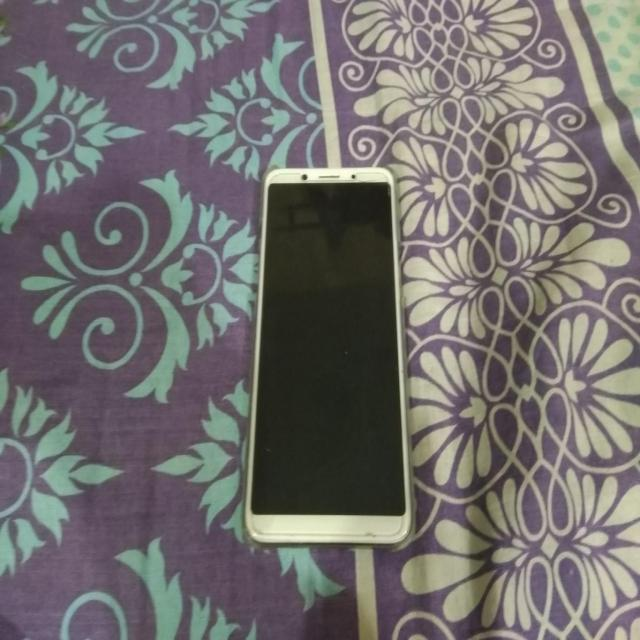Phone: (243, 166, 412, 552)
